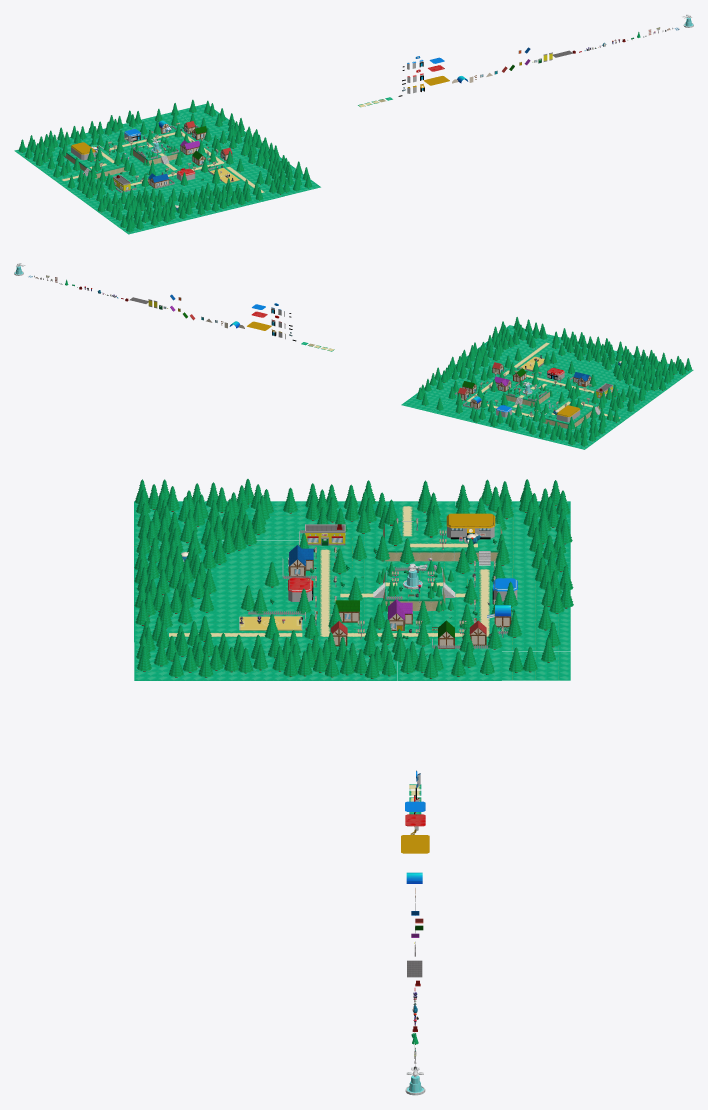
The model's file is original_pokemon_village.glb.
3 renders of one model, top to bottom at view 1: azimuth 30°, elevation 25°; view 2: azimuth 150°, elevation 25°; view 3: azimuth 270°, elevation 25°, orthographic. The views are drawn at different scales.
Visible parts, largest first — view 1: Object_3, Object_8; view 2: Object_3, Object_8; view 3: Object_3, Object_8.
Boxes of the visible parts, <box> form: Object_3: <box>14,47,581,234</box>; Object_8: <box>18,14,693,232</box>; Object_3: <box>121,294,693,449</box>; Object_8: <box>14,263,691,446</box>; Object_3: <box>134,501,570,990</box>; Object_8: <box>134,479,573,1095</box>.
Bounding box in the file's own units: 354 × 20.64 × 111.
27 materials, 26 textured.
